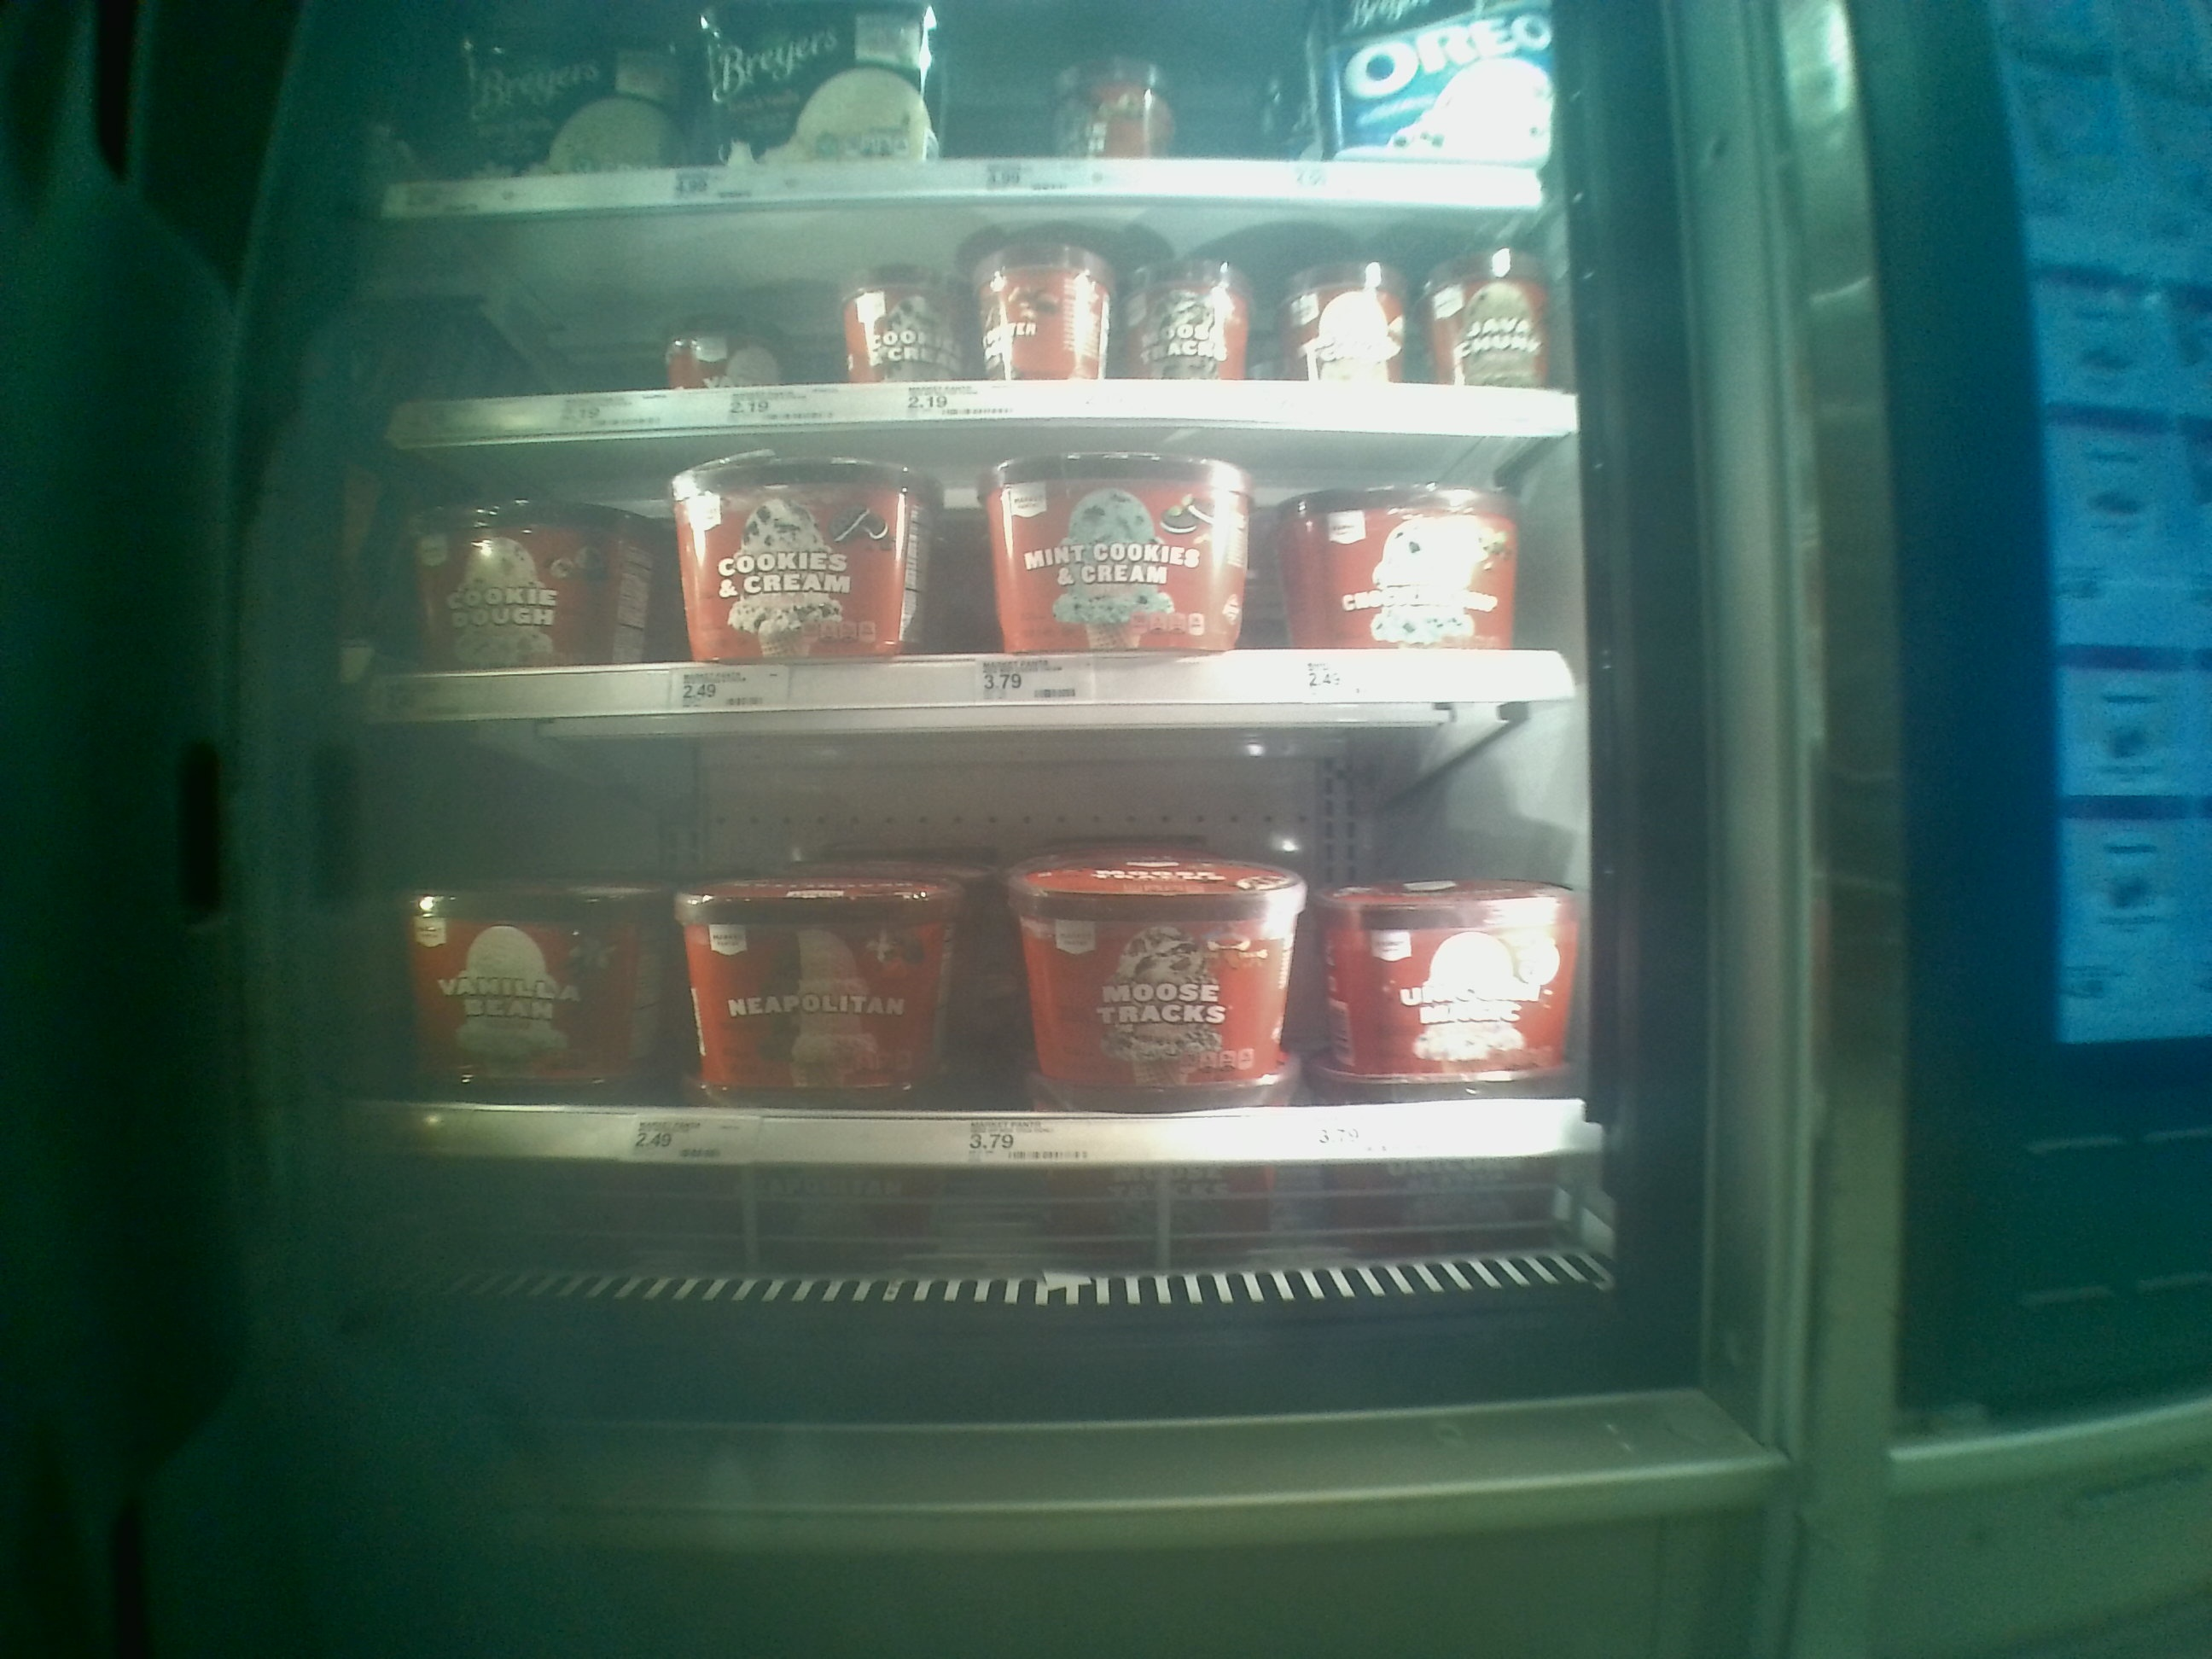shelf: (374, 721, 1609, 1253), (380, 437, 1583, 713), (378, 220, 1564, 423)
